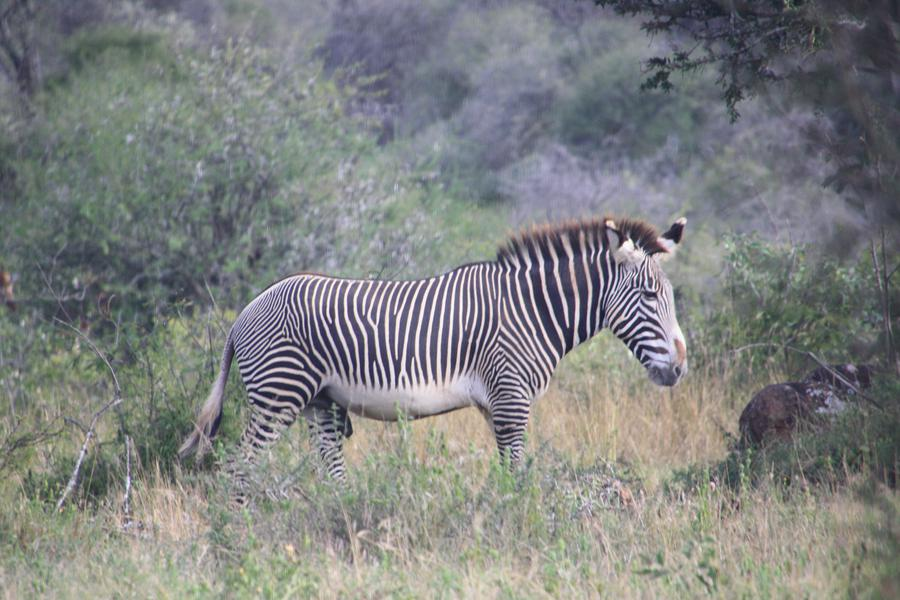zebra_grevys: (220, 258, 542, 409)
